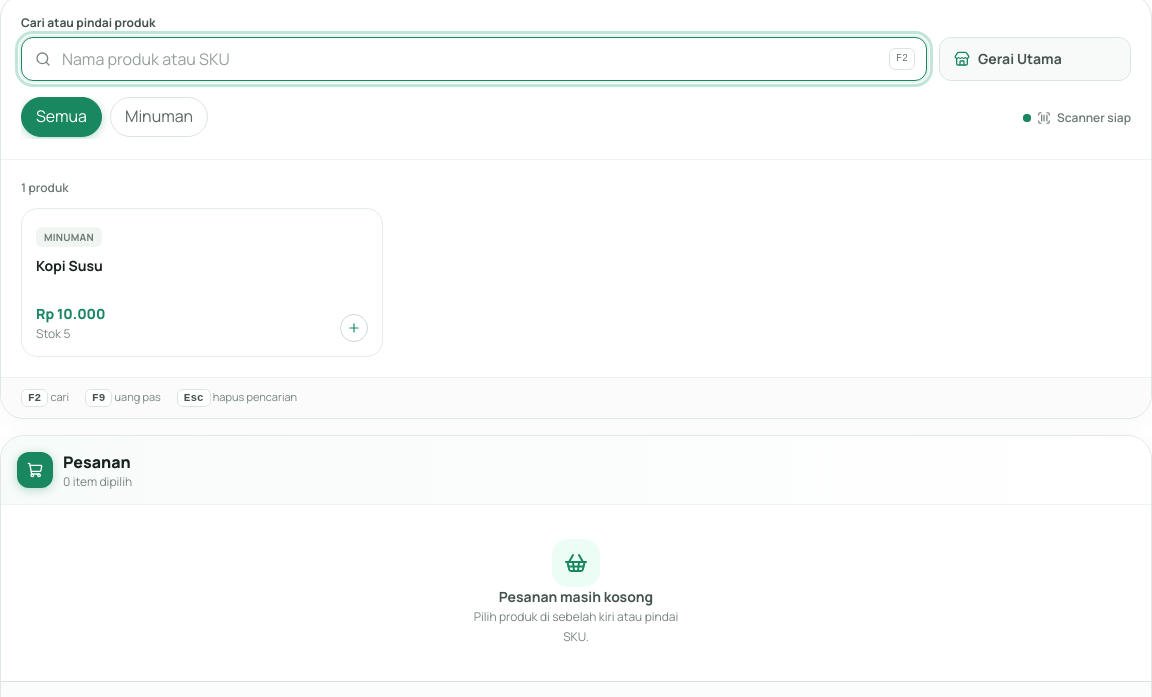
it: PosTerminal › tidak menghapus pesanan ketika tombol Escape ditekan
The image size is (1152, 697).
Click the button "Minuman Kopi Susu Rp 10.000 Stok 5" at (69, 237), box left=21, top=208, right=383, bottom=357
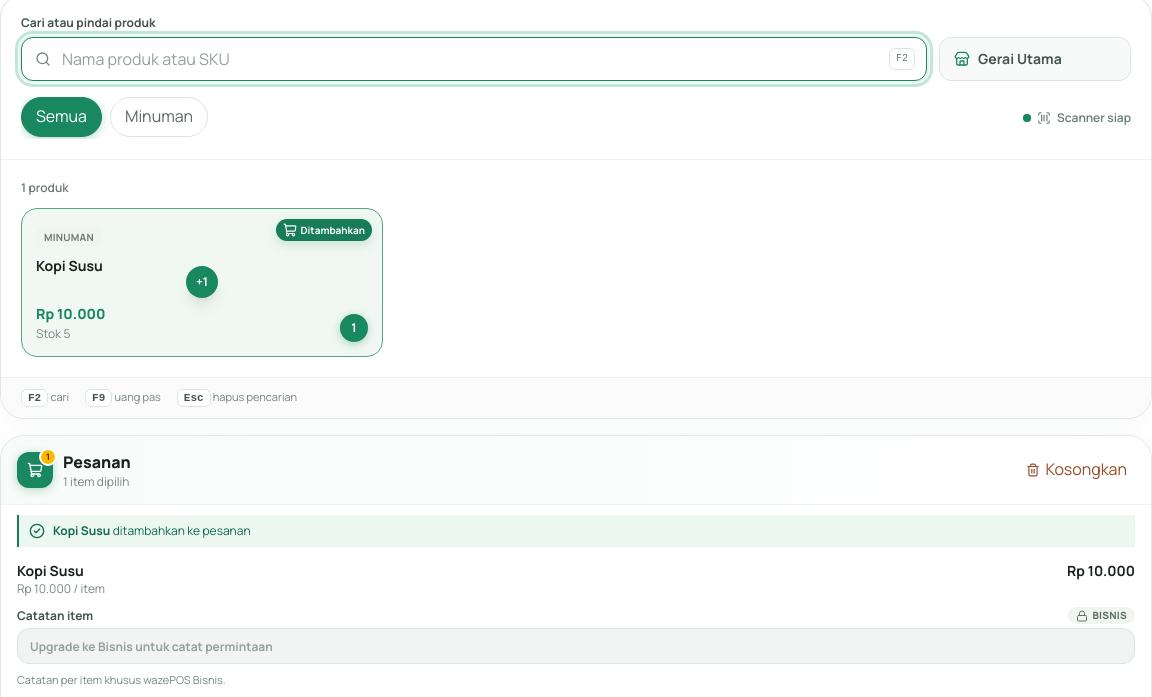
Press Escape
(page scrolled)
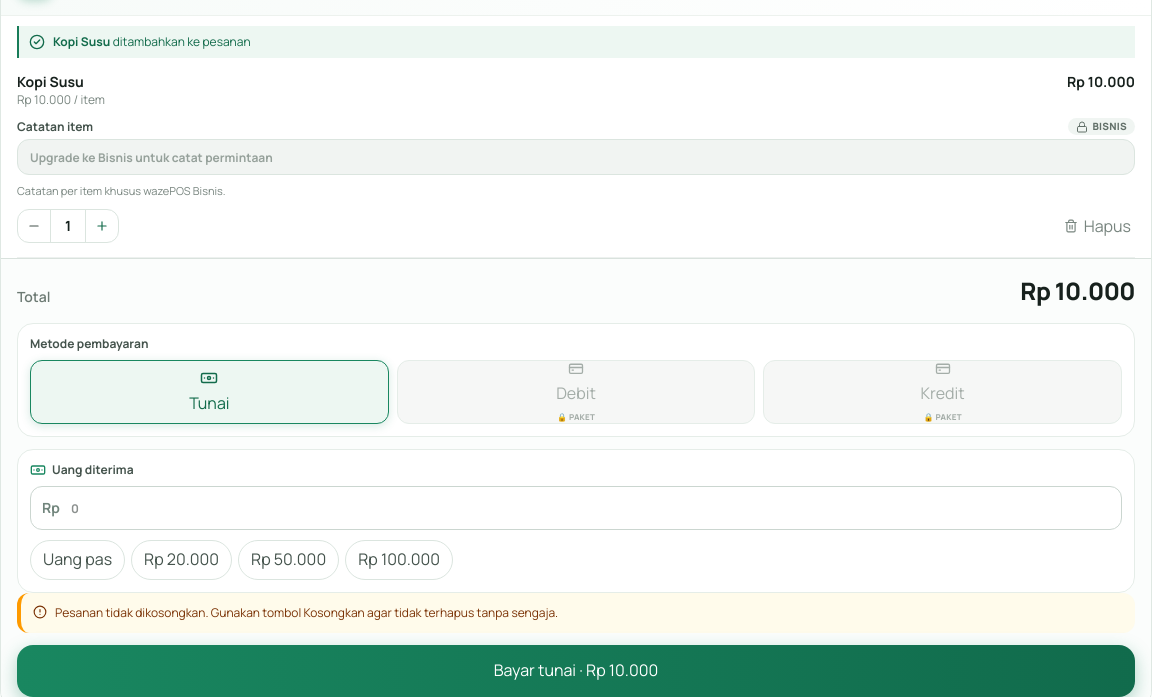
Expected: the text "Pesanan tidak dikosongkan" is shown, left=55, top=604, right=558, bottom=621
